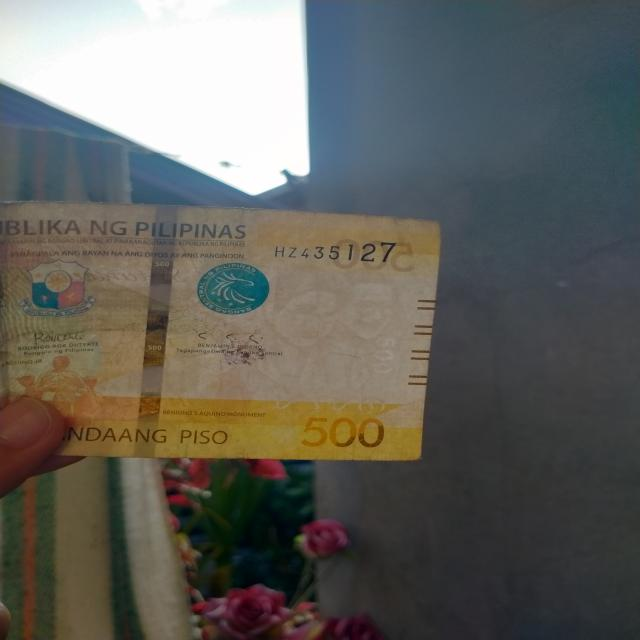security_thread: (130, 201, 186, 460)
see_through_mark: (262, 393, 388, 418)
serial_number: (264, 233, 404, 271)
value_watermark: (370, 334, 400, 381)
watermark: (246, 260, 390, 398)
